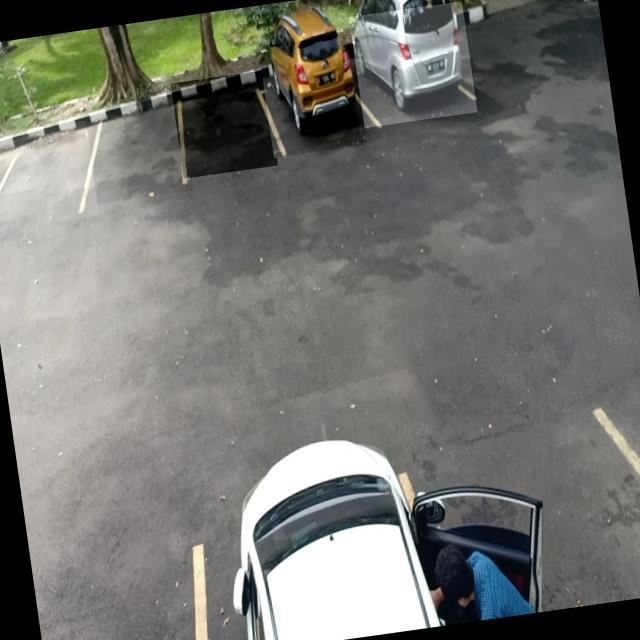empty: (79, 94, 194, 205), (170, 71, 278, 179), (0, 120, 99, 229)
occupied: (348, 1, 478, 128), (259, 34, 367, 158)
